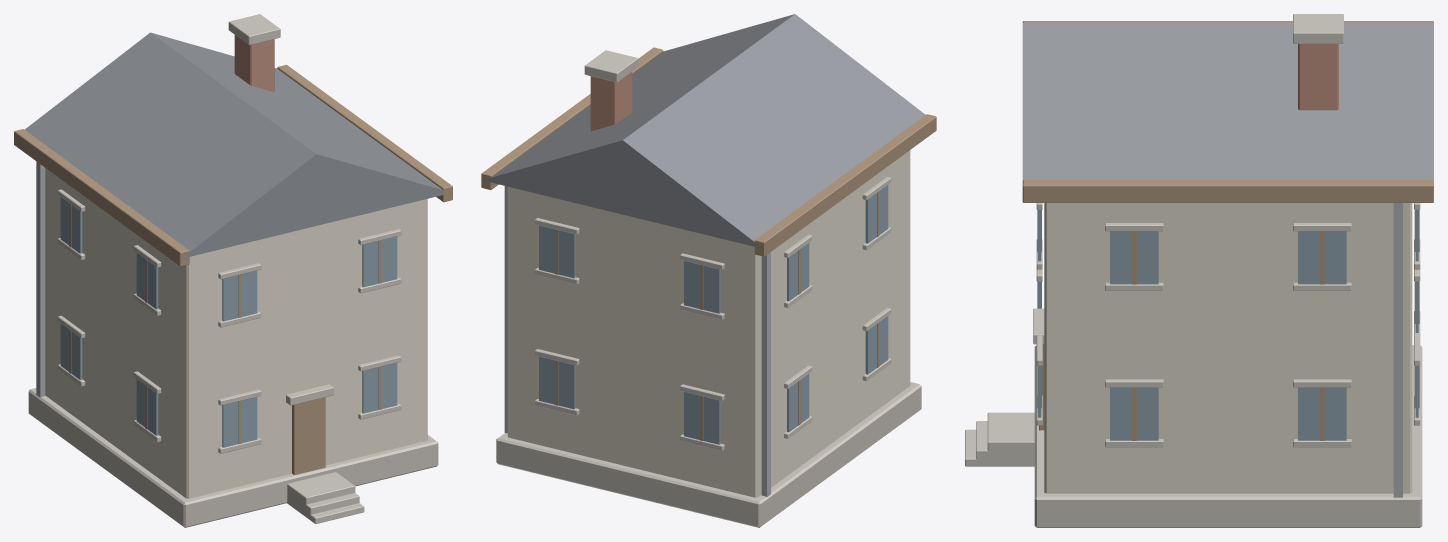
Rendered from residential_2.glb.
The picture shows the model from 3 angles, left to right: view 1: azimuth 30°, elevation 25°; view 2: azimuth 150°, elevation 25°; view 3: azimuth 270°, elevation 25°; orthographic projection. The views are drawn at different scales.
Parts seen in each view (by area): view 1: Main inhabited volume, Roof with deep eaves, Stone footing, Fascia, Door, Drainpipe, Fascia.001, Chimney shaft, Entrance steps, Recessed glazing.010, Recessed glazing.002, Recessed glazing.008 (+9 smaller); view 2: Main inhabited volume, Roof with deep eaves, Stone footing, Fascia, Drainpipe, Chimney shaft, Fascia.001, Recessed glazing.001, Recessed glazing.003, Recessed glazing.009, Recessed glazing.011, Chimney cap (+5 smaller); view 3: Main inhabited volume, Roof with deep eaves, Stone footing, Fascia.001, Drainpipe.001, Chimney shaft, Entrance steps, Recessed glazing.005, Recessed glazing.007, Recessed glazing.013, Recessed glazing.015, Chimney cap (+2 smaller).
Boxes of the visible parts, left/top/right/bottom form: Main inhabited volume: left=45, top=168, right=427, bottom=498; Roof with deep eaves: left=24, top=32, right=443, bottom=258; Stone footing: left=28, top=388, right=438, bottom=527; Fascia: left=14, top=129, right=189, bottom=266; Door: left=292, top=397, right=325, bottom=474; Drainpipe: left=36, top=161, right=45, bottom=397; Fascia.001: left=277, top=64, right=452, bottom=202; Chimney shaft: left=234, top=35, right=274, bottom=91; Entrance steps: left=287, top=472, right=355, bottom=516; Recessed glazing.010: left=362, top=236, right=397, bottom=287; Recessed glazing.002: left=362, top=363, right=397, bottom=413; Recessed glazing.008: left=222, top=270, right=257, bottom=321; Main inhabited volume: left=507, top=150, right=910, bottom=497; Roof with deep eaves: left=482, top=14, right=925, bottom=248; Stone footing: left=496, top=382, right=921, bottom=527; Fascia: left=754, top=114, right=936, bottom=256; Drainpipe: left=761, top=252, right=770, bottom=496; Chimney shaft: left=590, top=72, right=632, bottom=131; Fascia.001: left=481, top=47, right=663, bottom=189; Recessed glazing.001: left=684, top=392, right=720, bottom=444; Recessed glazing.003: left=539, top=356, right=575, bottom=409; Recessed glazing.009: left=684, top=261, right=720, bottom=313; Recessed glazing.011: left=539, top=225, right=575, bottom=278; Chimney cap: left=584, top=50, right=638, bottom=82; Main inhabited volume: left=1044, top=203, right=1412, bottom=493; Roof with deep eaves: left=1022, top=22, right=1433, bottom=180; Stone footing: left=1034, top=345, right=1422, bottom=527; Fascia.001: left=1022, top=180, right=1433, bottom=202; Drainpipe.001: left=1393, top=203, right=1402, bottom=497; Chimney shaft: left=1298, top=44, right=1338, bottom=110; Entrance steps: left=987, top=412, right=1034, bottom=466; Recessed glazing.005: left=1110, top=387, right=1158, bottom=440; Recessed glazing.007: left=1298, top=387, right=1346, bottom=440; Recessed glazing.013: left=1110, top=231, right=1158, bottom=284; Recessed glazing.015: left=1298, top=231, right=1346, bottom=284; Chimney cap: left=1293, top=14, right=1343, bottom=43.
Bounding box in the file's own units: 0.498 × 0.653 × 0.5988.
